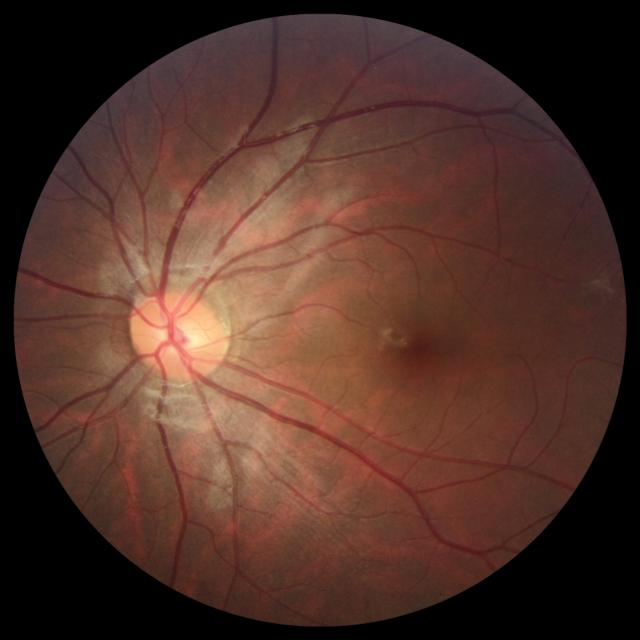OC: (160, 318, 199, 352)
OD: (132, 287, 224, 378)
